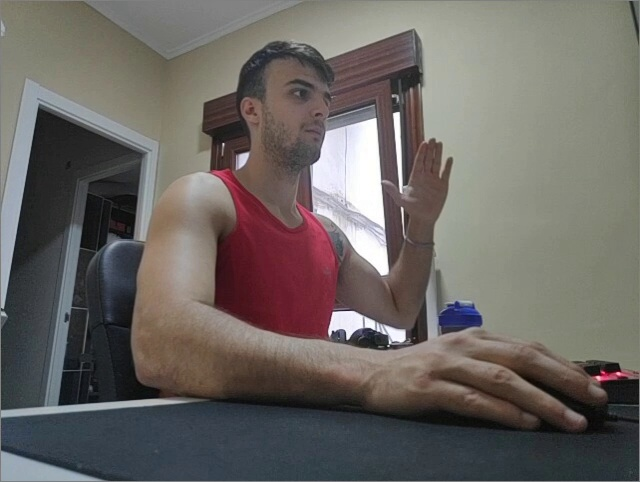Palm: (381, 138, 454, 224)
